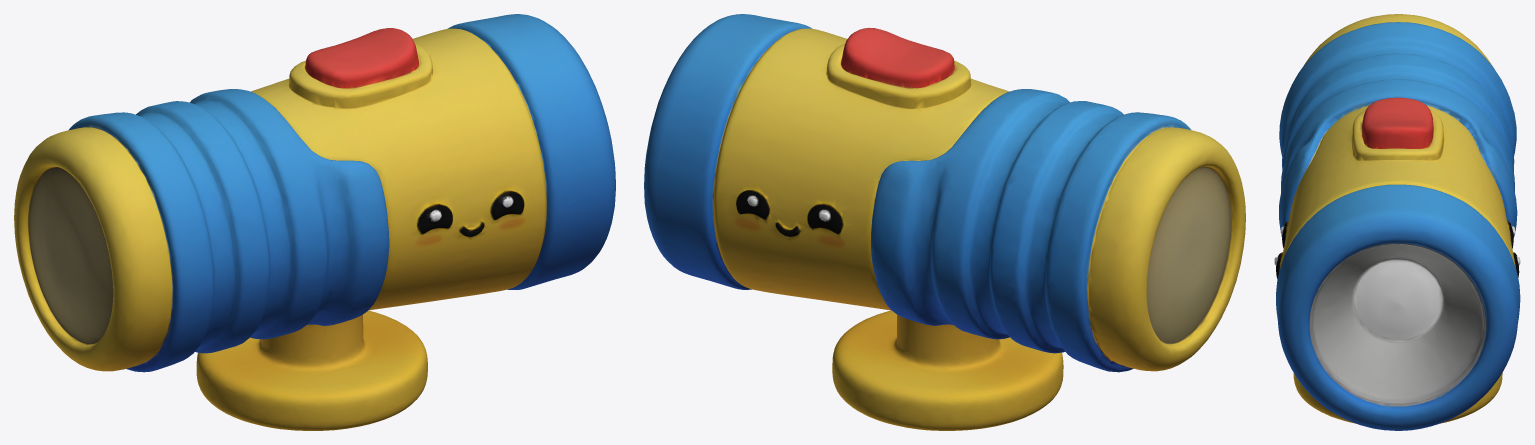
The model's file is flashlight.glb.
The picture shows the model from 3 angles, left to right: view 1: azimuth 30°, elevation 25°; view 2: azimuth 150°, elevation 25°; view 3: azimuth 270°, elevation 25°; orthographic projection. The views are drawn at different scales.
Parts seen in each view (by area): view 1: tripo_node_28617262-e6f4-4a94-b79c-aacd095c1102; view 2: tripo_node_28617262-e6f4-4a94-b79c-aacd095c1102; view 3: tripo_node_28617262-e6f4-4a94-b79c-aacd095c1102.
Boxes of the visible parts, left/top/right/bottom form: tripo_node_28617262-e6f4-4a94-b79c-aacd095c1102: left=14, top=14, right=615, bottom=430; tripo_node_28617262-e6f4-4a94-b79c-aacd095c1102: left=644, top=14, right=1245, bottom=430; tripo_node_28617262-e6f4-4a94-b79c-aacd095c1102: left=1274, top=14, right=1520, bottom=430.
Size of the model in its own units: 1 by 0.6448 by 0.4771.
1 material, 1 textured.
